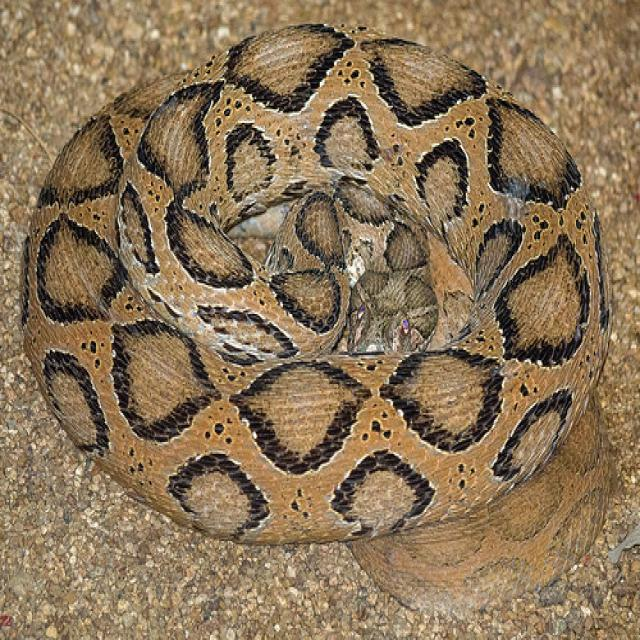Snake: (18, 21, 612, 614)
